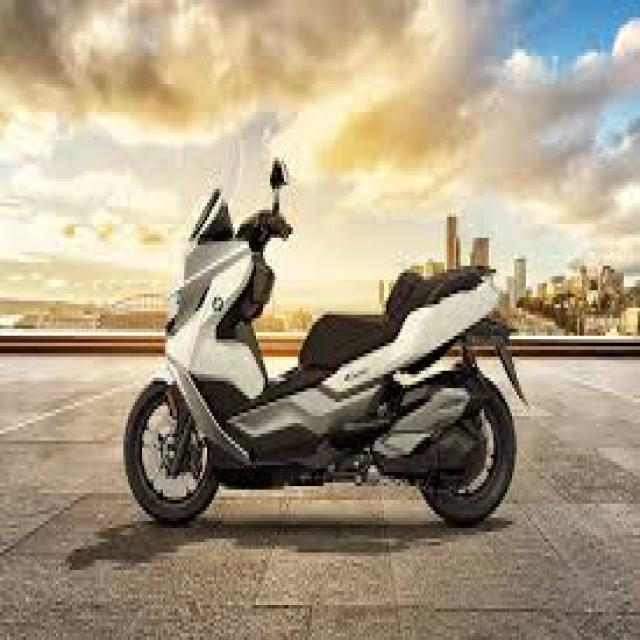Bike: (122, 154, 530, 531)
